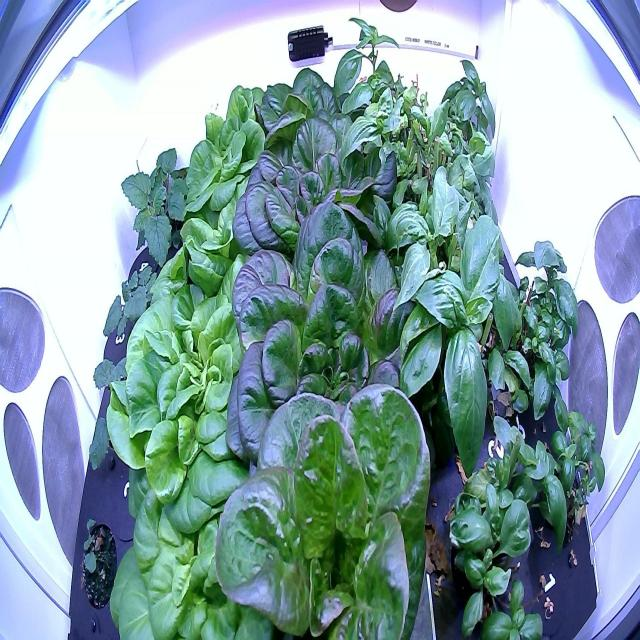Ready: (212, 190, 457, 500), (198, 354, 447, 640), (100, 273, 292, 516), (102, 451, 291, 640), (222, 104, 404, 295), (249, 28, 397, 200), (149, 158, 299, 326), (178, 73, 290, 239)
